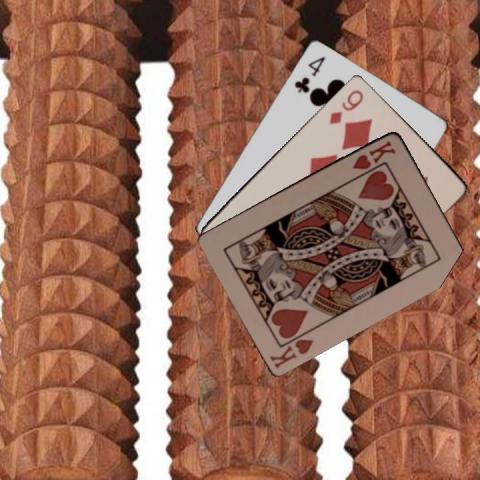4c: (290, 52, 326, 95)
9d: (326, 86, 365, 125)
Kh: (266, 335, 315, 370), (349, 137, 398, 171)
